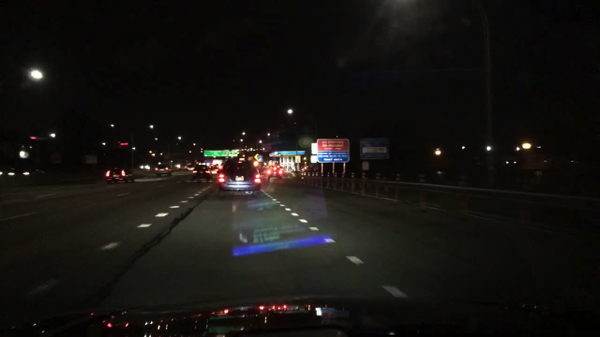car: (217, 160, 263, 196), (104, 168, 136, 183), (8, 167, 44, 177), (192, 164, 212, 181), (267, 167, 284, 179), (155, 165, 172, 176), (301, 166, 317, 173), (211, 166, 221, 176), (185, 165, 195, 171)
traffic sign: (317, 139, 350, 162), (360, 137, 389, 160), (205, 150, 238, 157), (311, 142, 317, 155), (310, 156, 319, 164), (361, 162, 369, 171), (295, 155, 301, 162), (258, 155, 263, 162)
